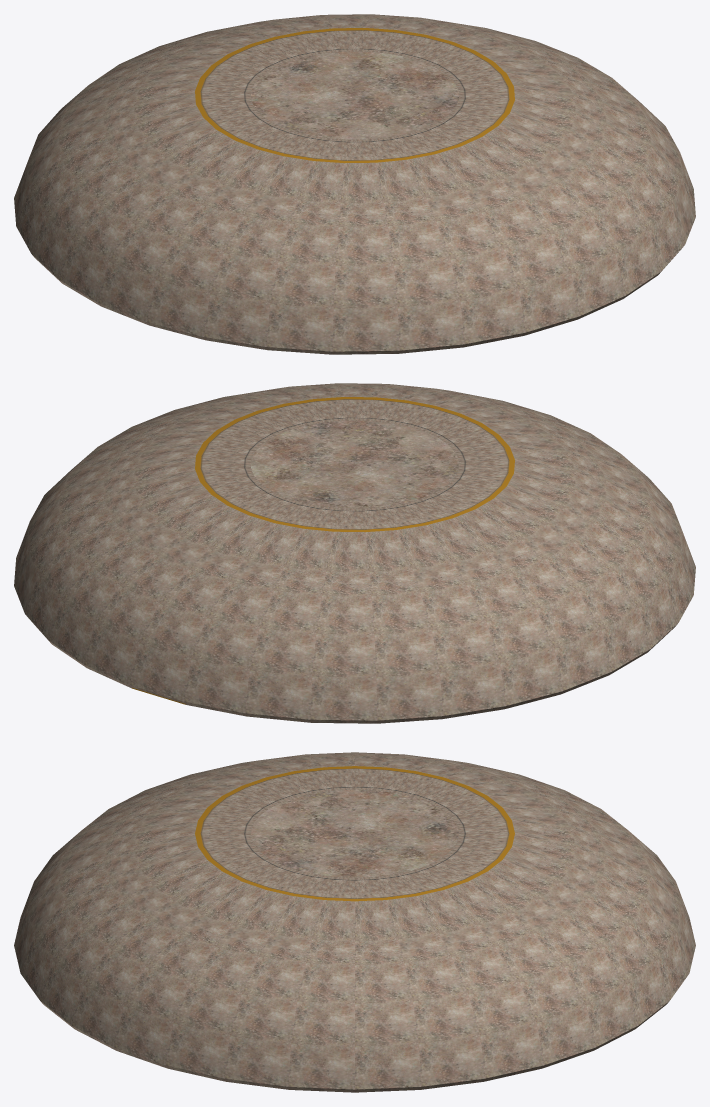
File: SM_Circular_Floor_Top_M.gltf
The picture shows the model from 3 angles, top to bottom: view 1: azimuth 30°, elevation 25°; view 2: azimuth 150°, elevation 25°; view 3: azimuth 270°, elevation 25°; orthographic projection.
Visible parts, largest first — view 1: SM_WetHallProps_JFG_RoundTop_M_Trim_JFG_Rocks_Wet_0; view 2: SM_WetHallProps_JFG_RoundTop_M_Trim_JFG_Rocks_Wet_0; view 3: SM_WetHallProps_JFG_RoundTop_M_Trim_JFG_Rocks_Wet_0.
Part boxes in pixels (left/top/right/bottom): SM_WetHallProps_JFG_RoundTop_M_Trim_JFG_Rocks_Wet_0: left=14, top=14, right=695, bottom=354; SM_WetHallProps_JFG_RoundTop_M_Trim_JFG_Rocks_Wet_0: left=14, top=383, right=695, bottom=723; SM_WetHallProps_JFG_RoundTop_M_Trim_JFG_Rocks_Wet_0: left=14, top=752, right=695, bottom=1092.
Size of the model in its own units: 4.39 by 0.8262 by 4.39.
Materials: 1 (1 with a texture image).
